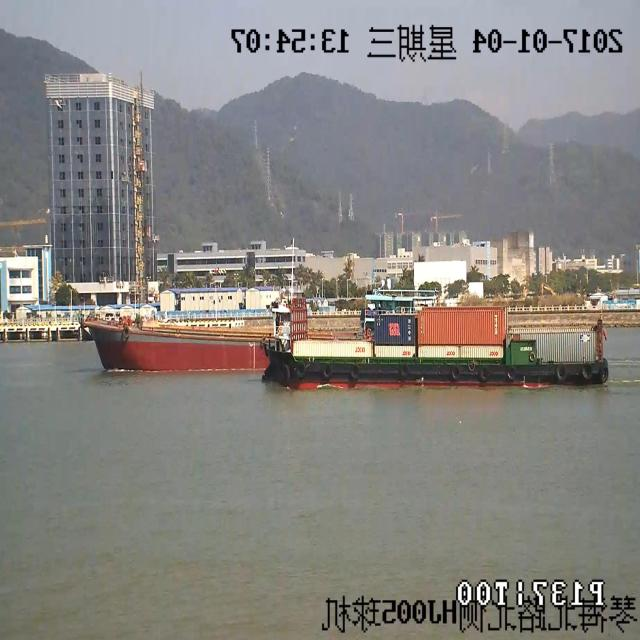cargoship: (267, 276, 618, 388), (66, 281, 270, 384)
